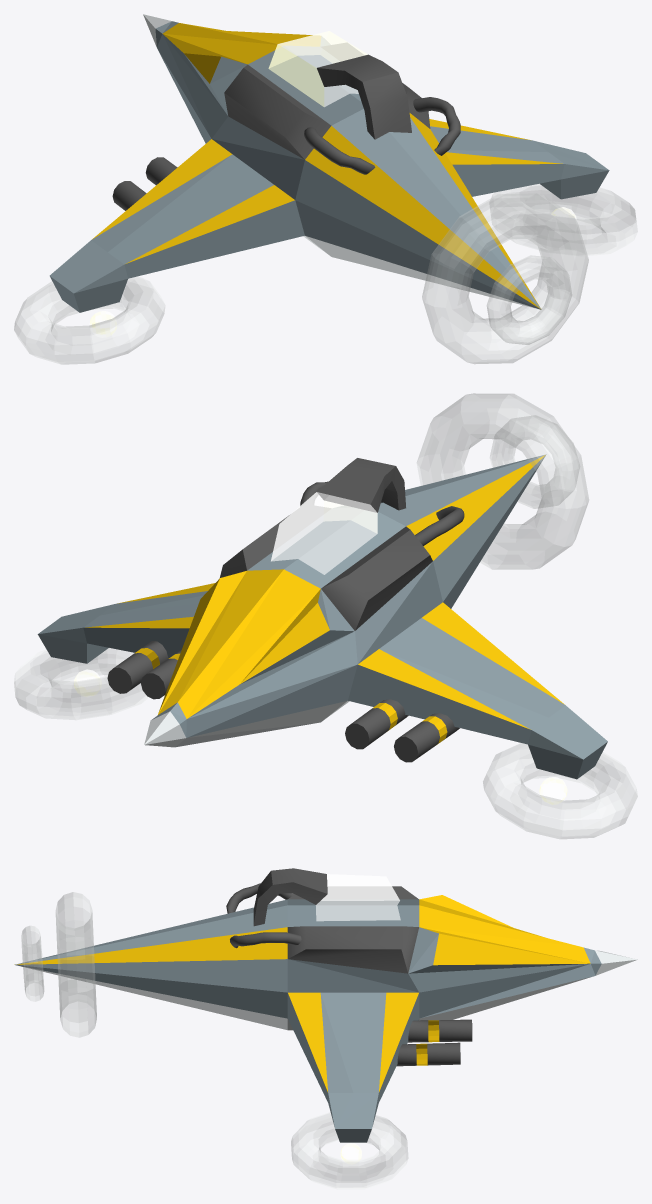
File: ship1.glb
3 views of the same model, one above another, from view 1: azimuth 30°, elevation 25°; view 2: azimuth 150°, elevation 25°; view 3: azimuth 270°, elevation 25° (orthographic). The views are drawn at different scales.
Parts seen in each view (by area): view 1: Object_4, Object_6, Object_2, Object_5, Object_7, Object_3; view 2: Object_4, Object_6, Object_2, Object_5, Object_7, Object_3; view 3: Object_4, Object_2, Object_5, Object_6, Object_7, Object_3.
Boxes of the visible parts, <box> form: Object_4: <box>49,21,609,312</box>; Object_6: <box>14,184,637,364</box>; Object_2: <box>92,23,562,308</box>; Object_5: <box>112,43,460,210</box>; Object_7: <box>89,31,576,337</box>; Object_3: <box>143,14,538,309</box>; Object_4: <box>37,454,607,779</box>; Object_6: <box>14,393,637,838</box>; Object_2: <box>85,455,564,744</box>; Object_5: <box>107,458,464,762</box>; Object_7: <box>74,492,567,804</box>; Object_3: <box>144,701,349,747</box>; Object_4: <box>15,899,601,1142</box>; Object_2: <box>14,895,590,1091</box>; Object_5: <box>226,868,472,1066</box>; Object_6: <box>21,892,408,1189</box>; Object_7: <box>316,874,400,1164</box>; Object_3: <box>18,950,637,1030</box>.
Bounding box in the file's own units: 1.22 × 0.5092 × 1.41.
